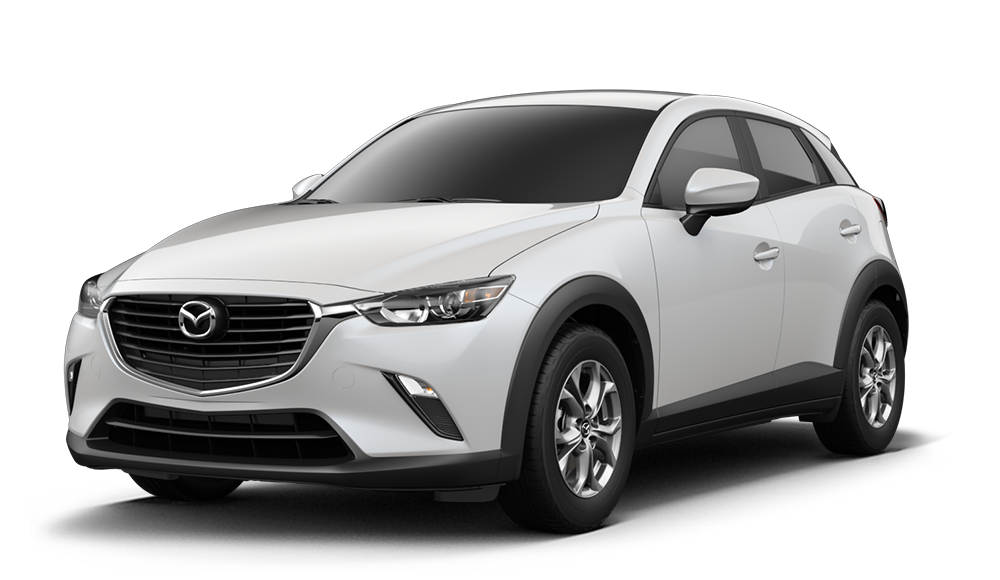sedan: (60, 86, 911, 529)
